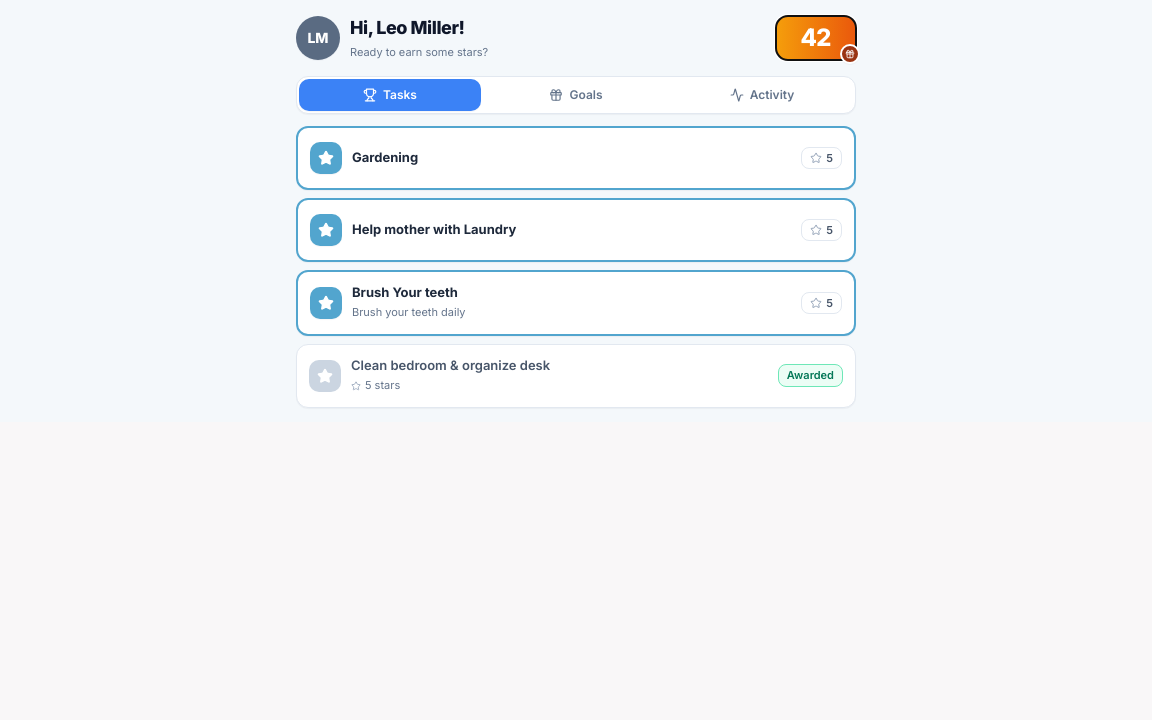
family hero child demo › dismisses cash-in with Escape, restores focus and resets its form when reopened
The image size is (1152, 720).
Click the button named "Cash in stars, 42 stars available". click: (816,38)
box: [776,16,856,60]
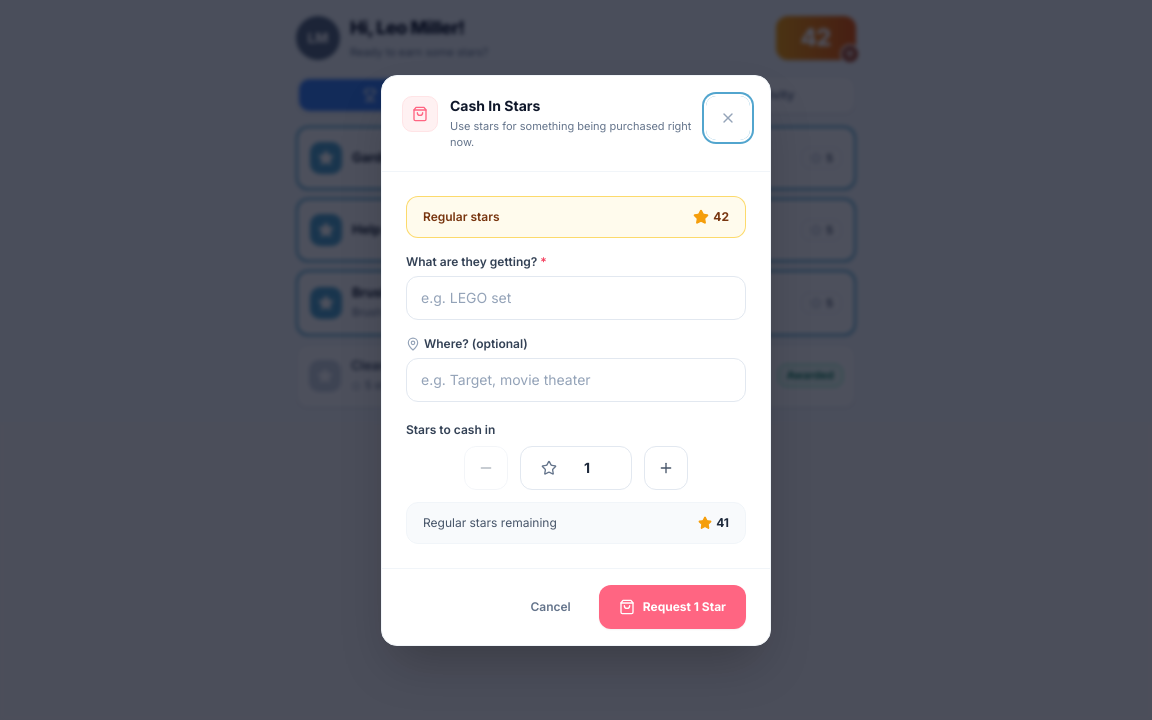
Type "Movie tickets" into the field labelled "What are they getting? *". click: (576,298)
box: [406,276,746,320]
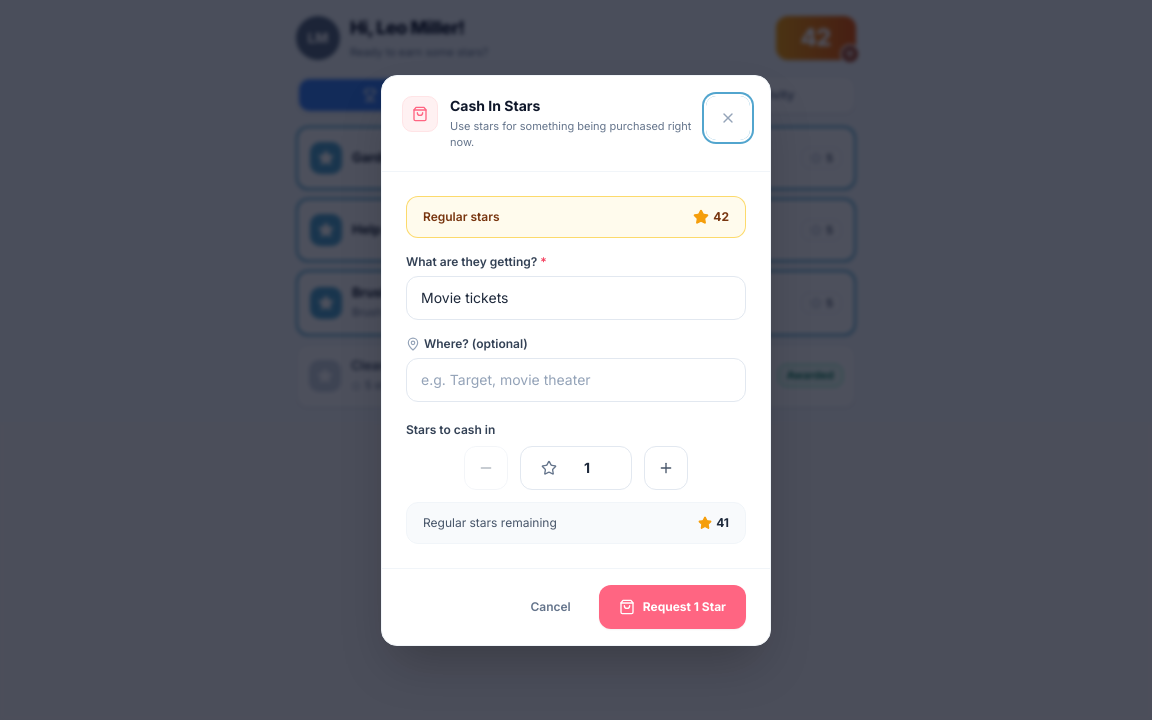
Click the button named "Use one more star". click: (666,468)
box: [644,446,688,490]
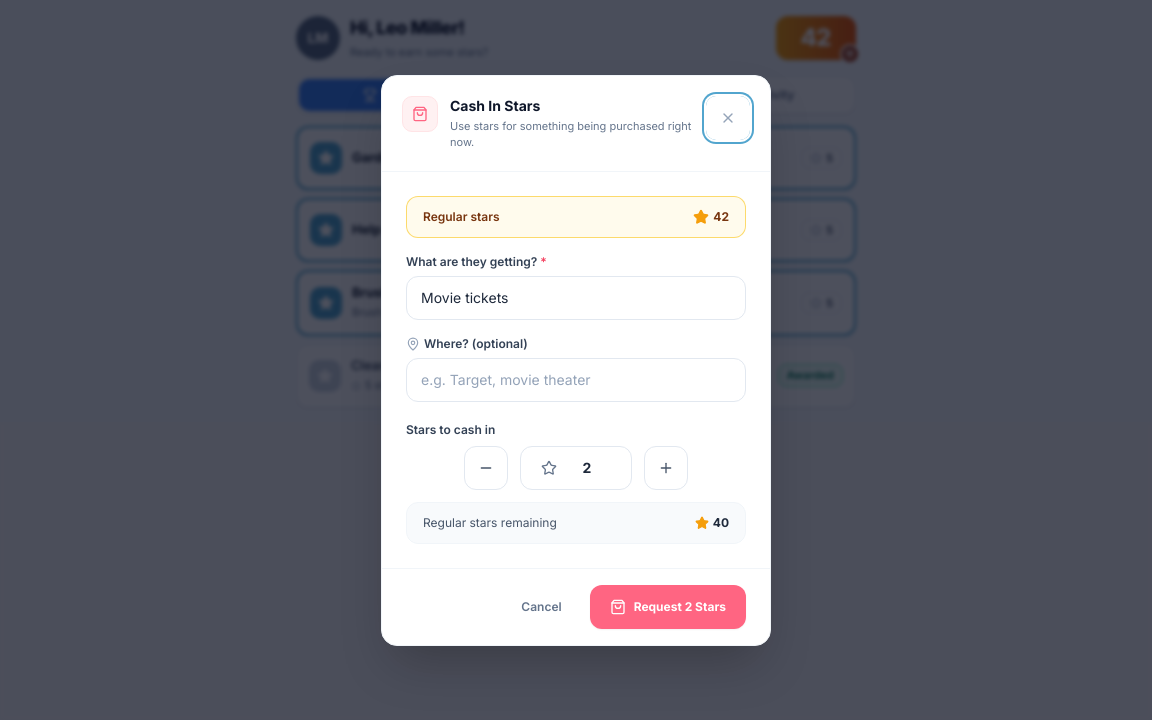
Press Escape in the dialog, box [381,74,771,646]
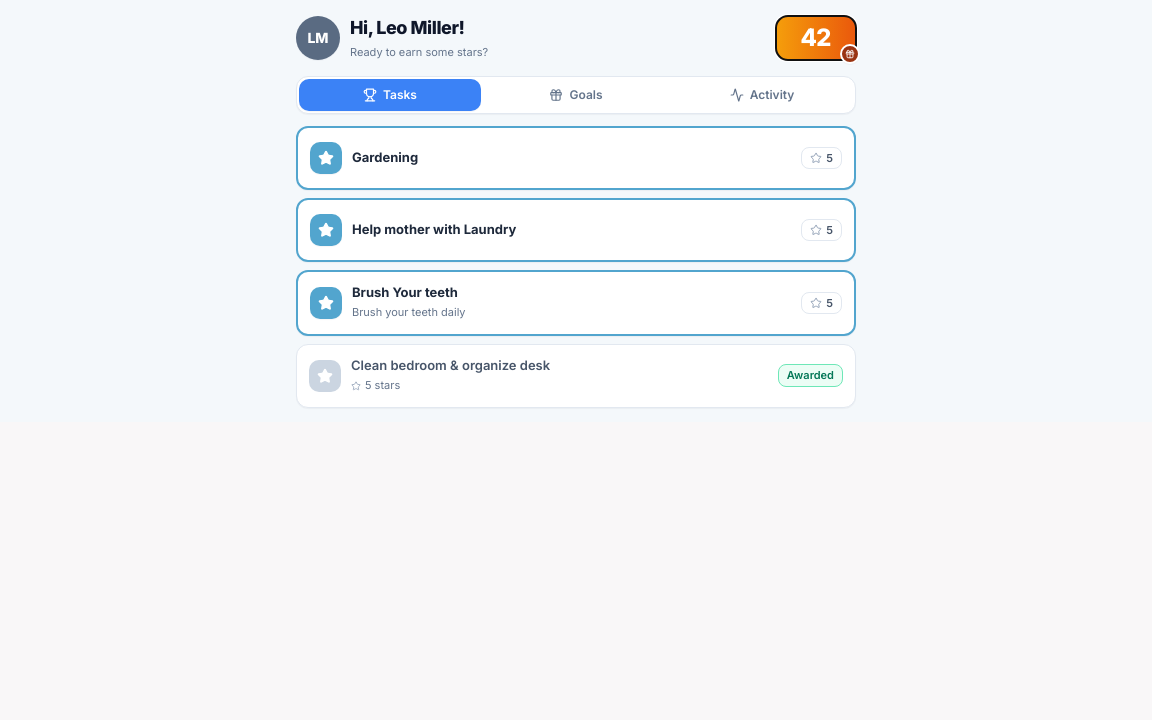
Expected: the dialog is gone
Click the button named "Cash in stars, 42 stars available". click: (816,38)
box: [776,16,856,60]
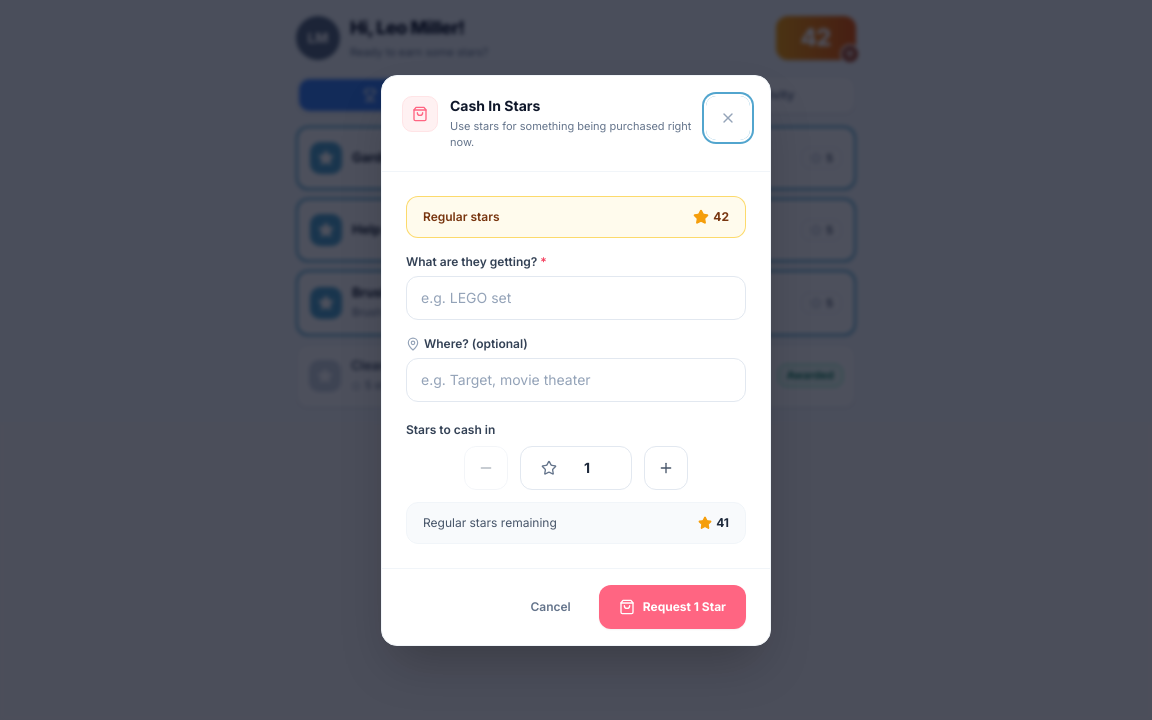
Expected: the number field labelled "Stars to cash in" holds "1", [563,446,611,490]
Expected: the field labelled "What are they getting? *" is empty, [406,276,746,320]
Expected: the element showing "41" is shown, [698,514,729,530]
